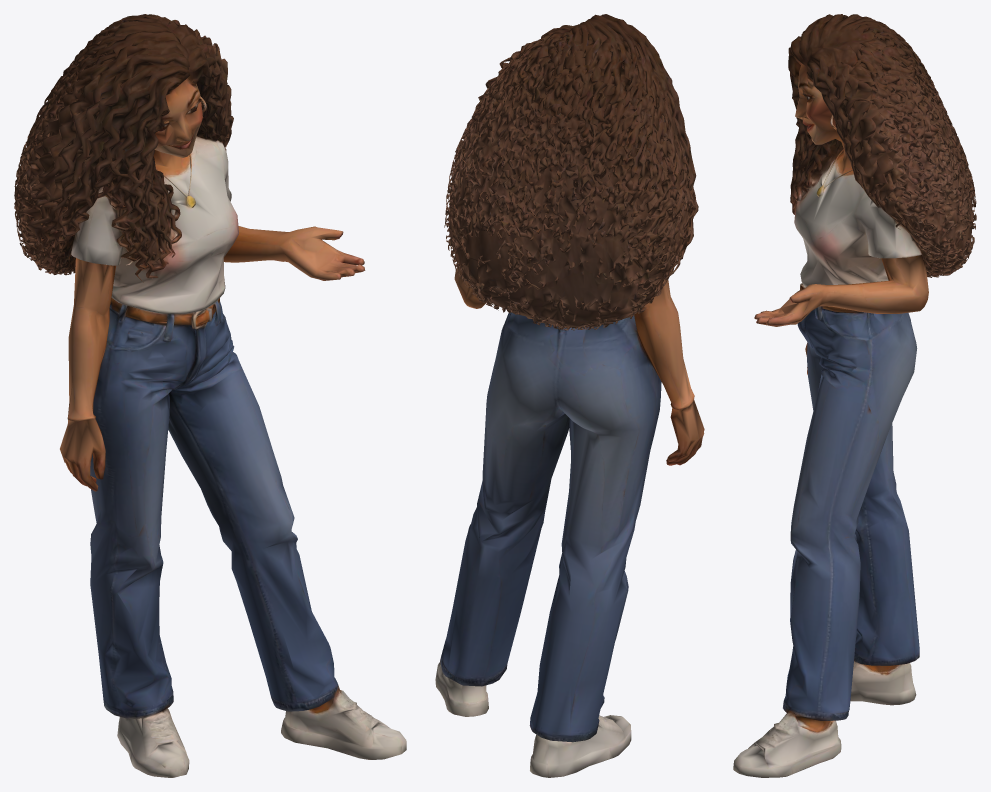
File: thea-greeting-v2.glb
3 views of the same model, side by side, from view 1: azimuth 30°, elevation 25°; view 2: azimuth 150°, elevation 25°; view 3: azimuth 270°, elevation 25° (orthographic). The views are drawn at different scales.
Visible parts, largest first — view 1: Thea Greeting; view 2: Thea Greeting; view 3: Thea Greeting.
Part boxes in pixels (x1,y1,x2,y2): Thea Greeting: (14, 14, 406, 777); Thea Greeting: (435, 14, 704, 777); Thea Greeting: (733, 14, 976, 777).
Size of the model in its own units: 0.8783 by 1.96 by 0.6469.
Materials: 1 (1 with a texture image).
